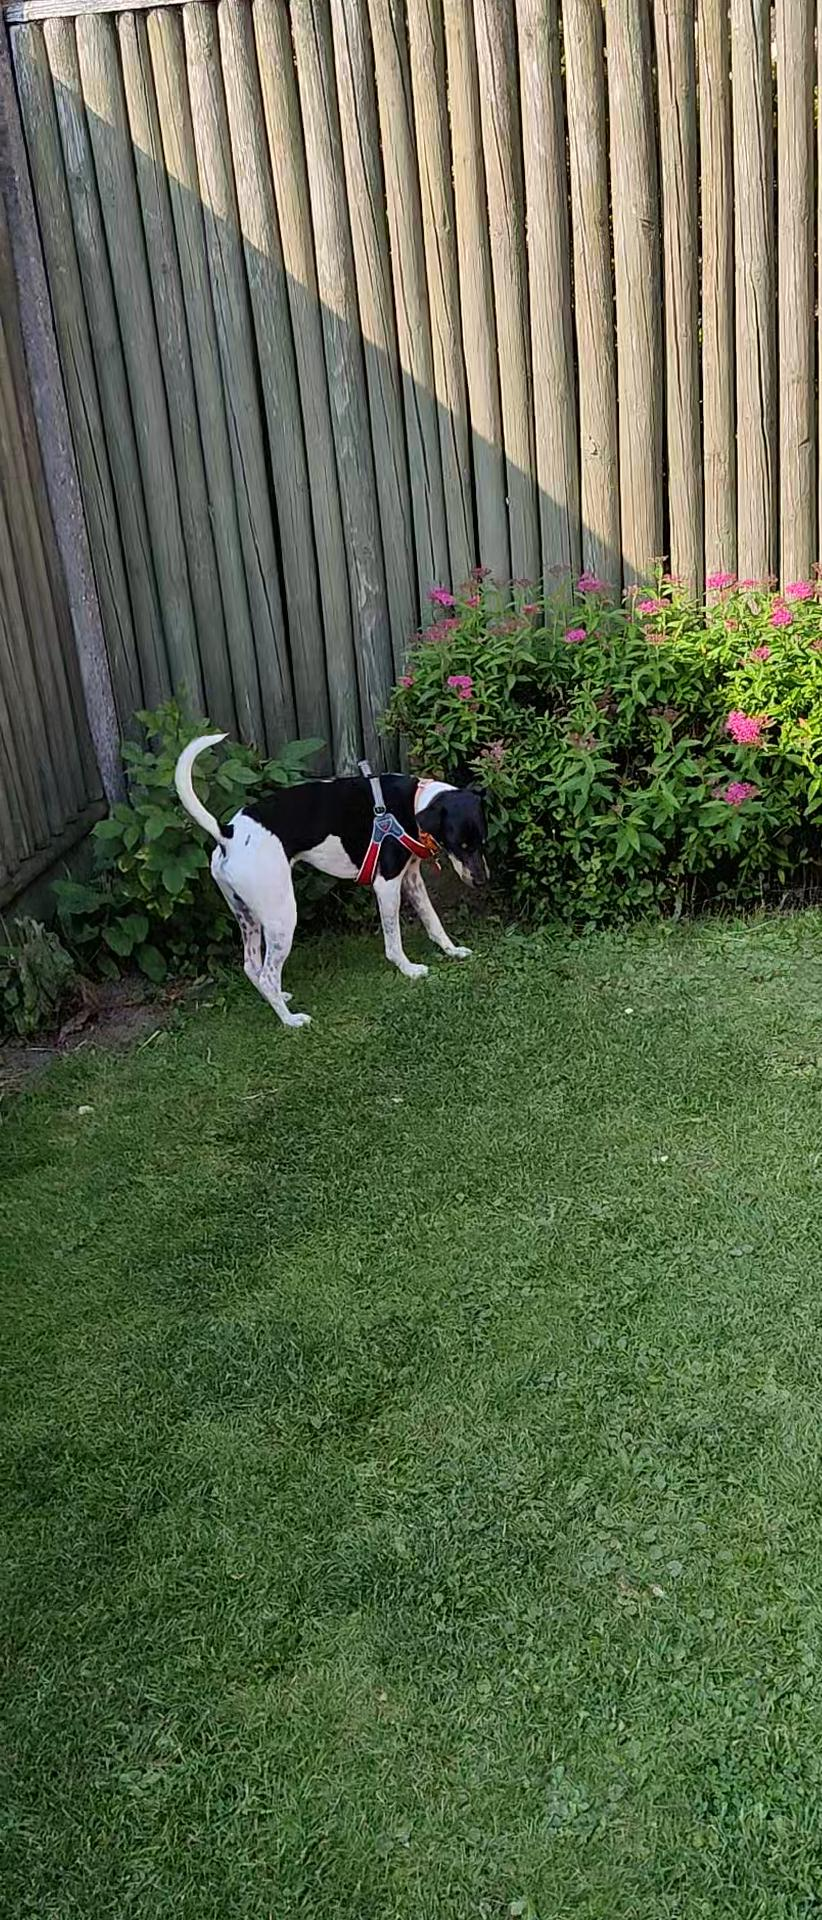Dog: (162, 719, 500, 1033)
